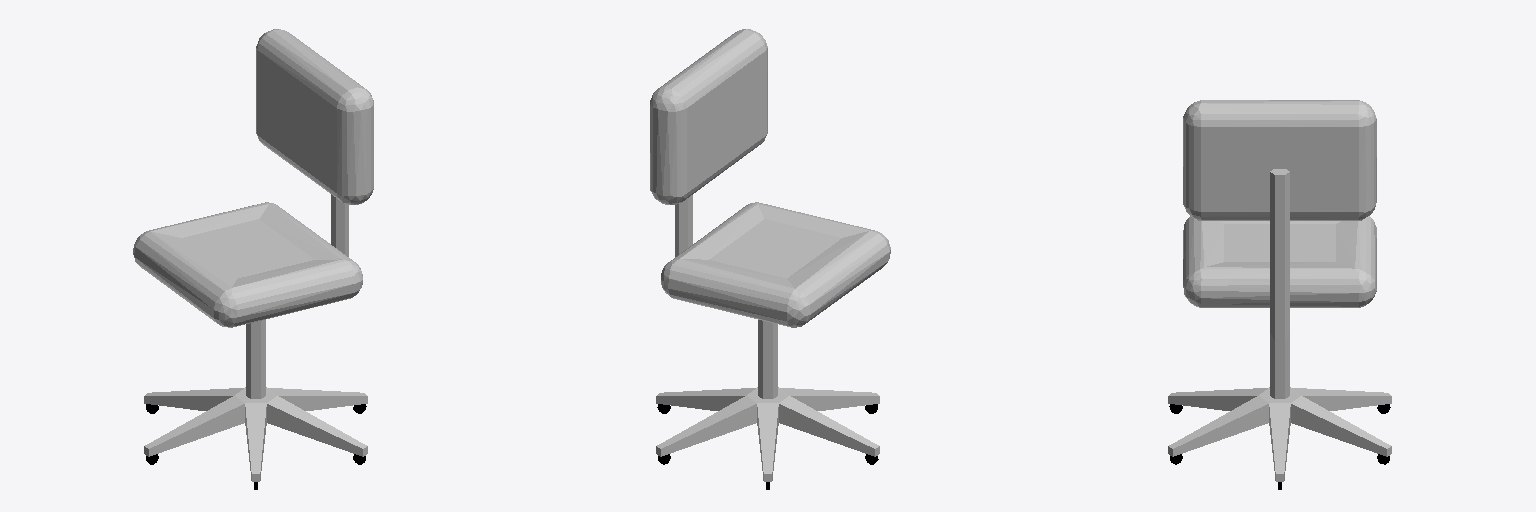
The model's file is Chair.obj.
3 views of the same model, side by side, from view 1: azimuth 30°, elevation 25°; view 2: azimuth 150°, elevation 25°; view 3: azimuth 270°, elevation 25° (orthographic).
Visible parts, largest first — view 1: Pillows, Support; view 2: Pillows, Support; view 3: Pillows, Support.
Boxes of the visible parts, x1,y1,x2,y2 form: Pillows: [133, 29, 373, 327]; Support: [144, 194, 367, 481]; Pillows: [650, 29, 890, 327]; Support: [656, 195, 879, 481]; Pillows: [1183, 100, 1376, 307]; Support: [1168, 169, 1391, 481].
Size of the model in its own units: 0.5866 by 0.9345 by 0.518.